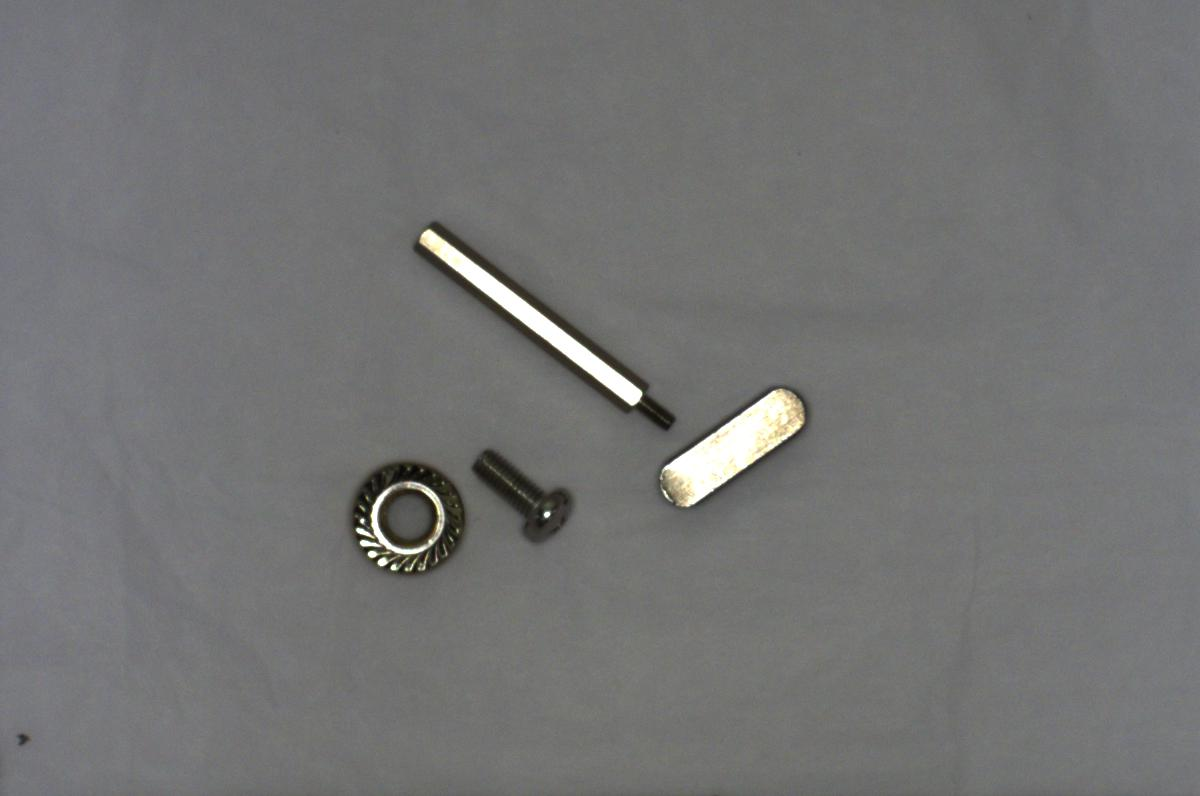Flange nut: (345, 453, 467, 579)
Hexagonal steel column: (405, 218, 681, 433)
Keybar: (652, 380, 814, 520)
Round head screw: (467, 438, 578, 547)
